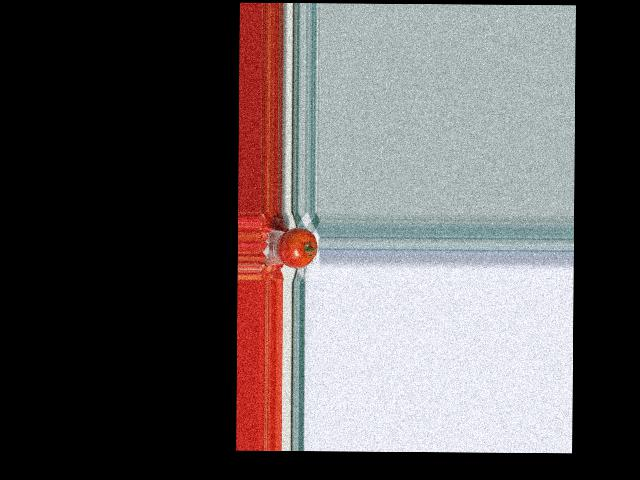tomato: (278, 227, 317, 269)
